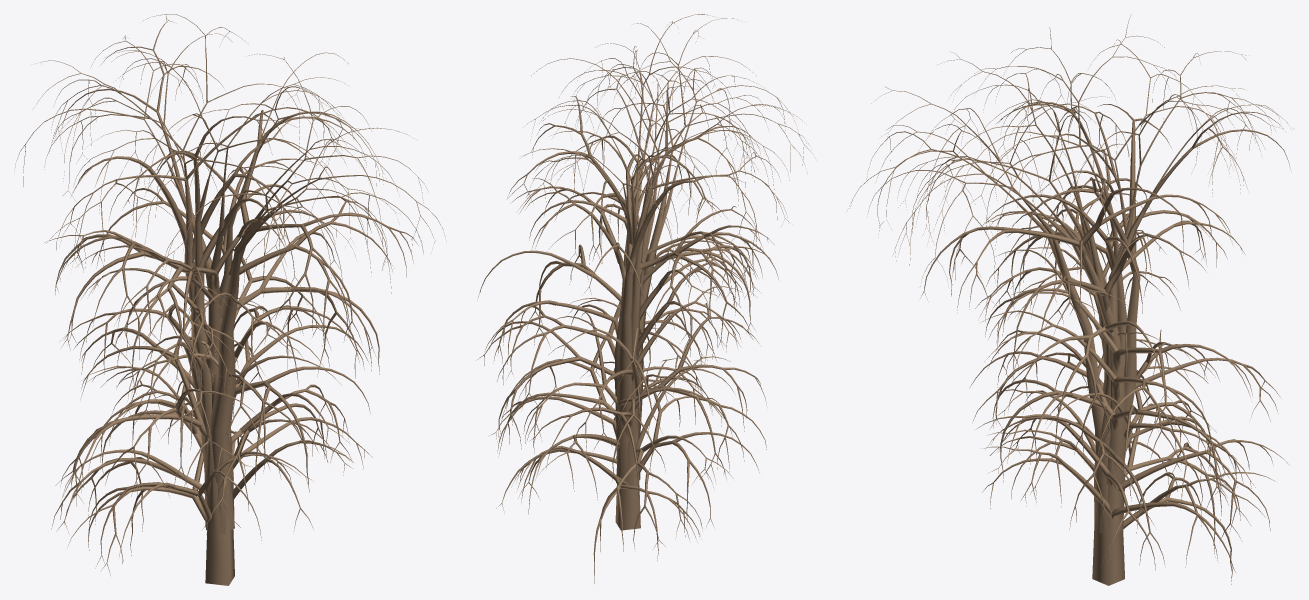
Rendered from willowwwtree.glb.
3 views of the same model, side by side, from view 1: azimuth 30°, elevation 25°; view 2: azimuth 150°, elevation 25°; view 3: azimuth 270°, elevation 25° (orthographic). The views are drawn at different scales.
Parts seen in each view (by area): view 1: tree; view 2: tree; view 3: tree.
Part boxes in pixels (bbox=[...]): tree: bbox=[15, 14, 445, 585]; tree: bbox=[477, 14, 815, 583]; tree: bbox=[847, 16, 1294, 585].
Size of the model in its own units: 12.75 by 19.99 by 15.11.
